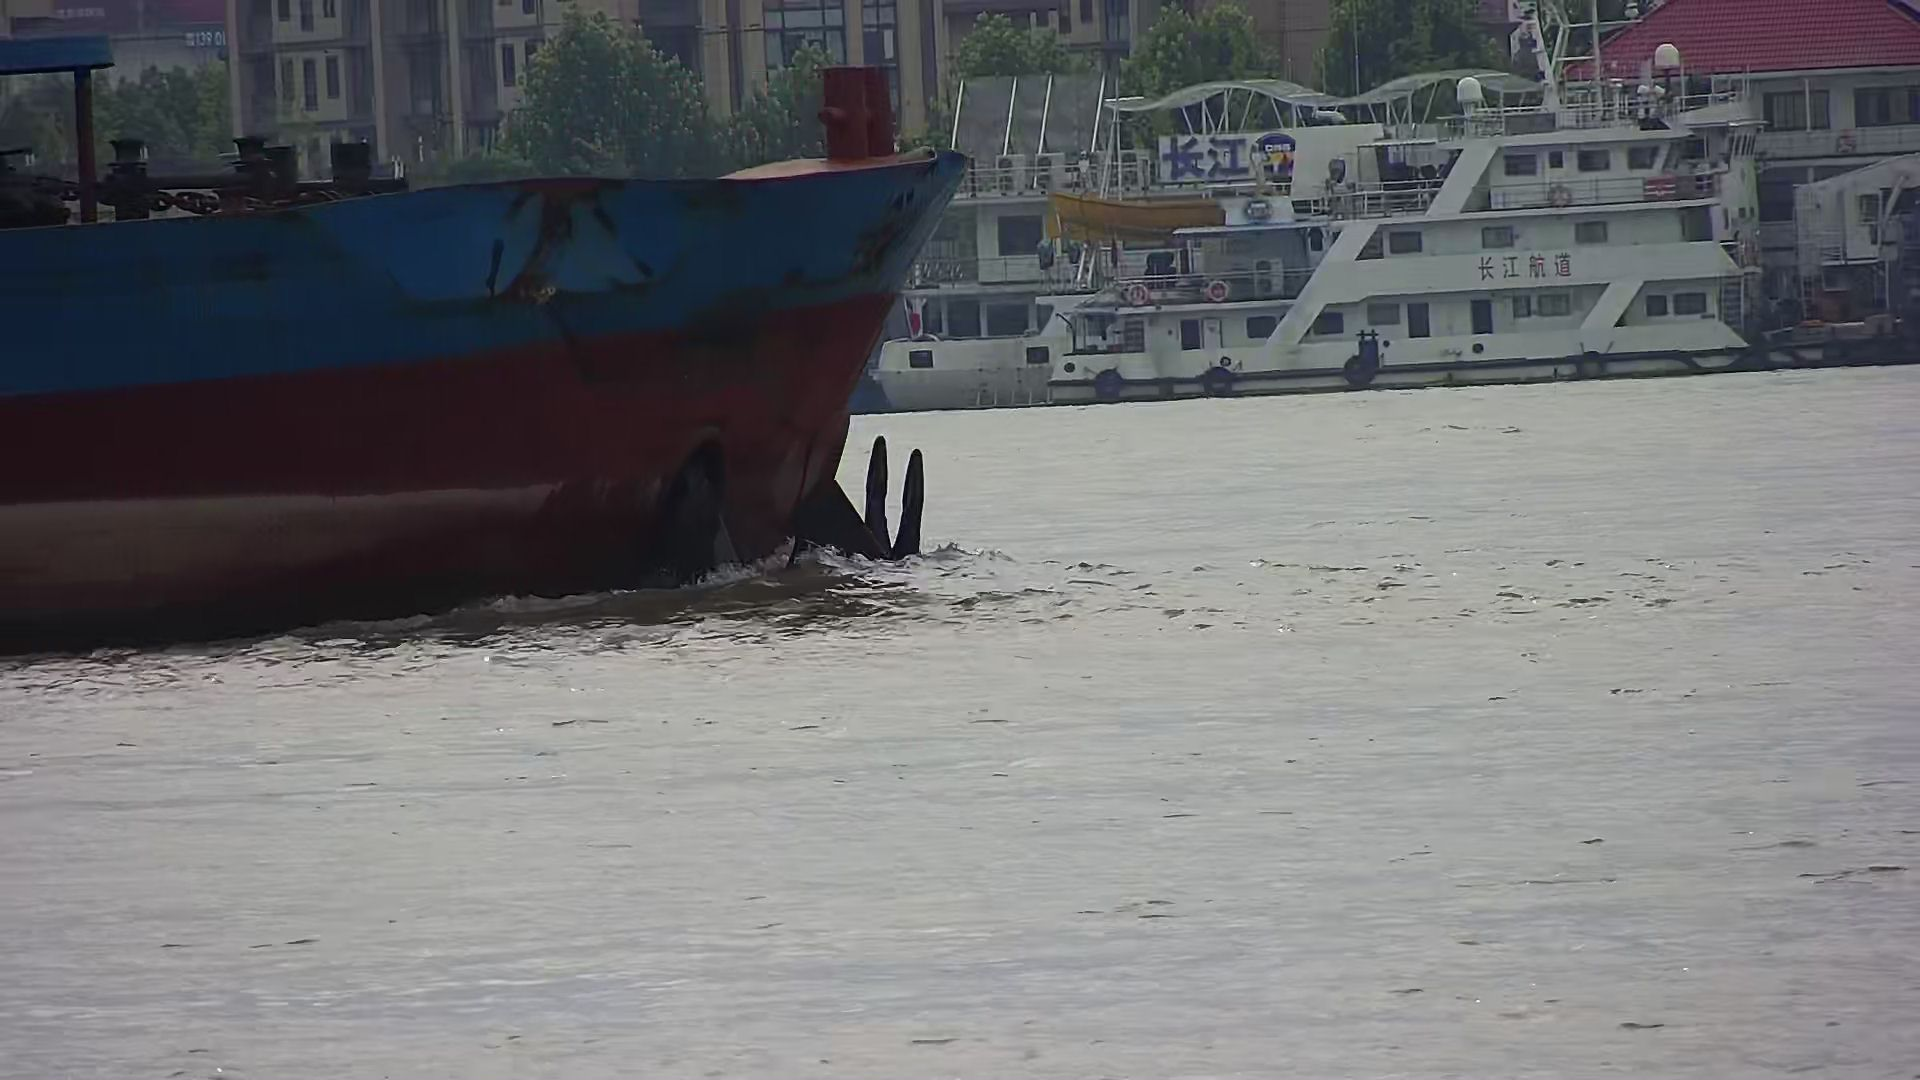ship: (1, 32, 1011, 657), (1038, 58, 1751, 401)
